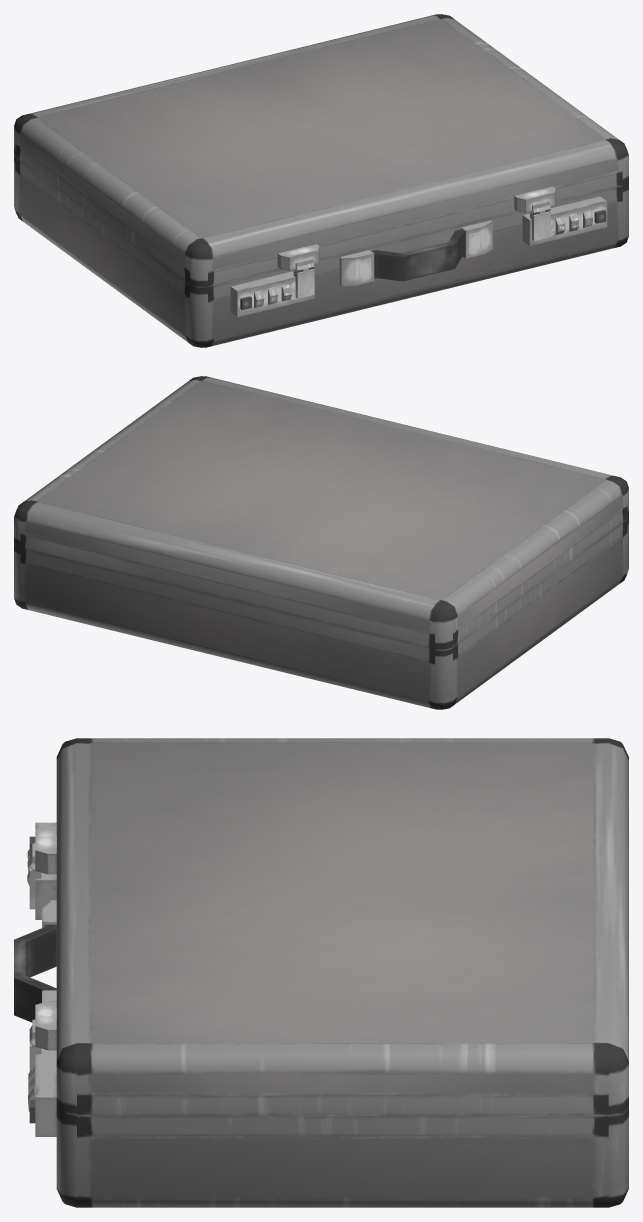
File: BriefCase.fbx
3 renders of one model, top to bottom at view 1: azimuth 30°, elevation 25°; view 2: azimuth 150°, elevation 25°; view 3: azimuth 270°, elevation 25°, orthographic. The views are drawn at different scales.
Visible parts, largest first — view 1: BriefCase_Lid, BriefCase; view 2: BriefCase_Lid, BriefCase; view 3: BriefCase_Lid, BriefCase.
Boxes of the visible parts, box(x1,y1,x2,y2) form: BriefCase_Lid: box(14, 14, 628, 298); BriefCase: box(14, 154, 628, 347); BriefCase_Lid: box(14, 376, 628, 649); BriefCase: box(14, 516, 628, 709); BriefCase_Lid: box(29, 738, 628, 1115); BriefCase: box(14, 822, 628, 1207).
Bounding box in the file's own units: 0.4445 × 0.1016 × 0.3548.
